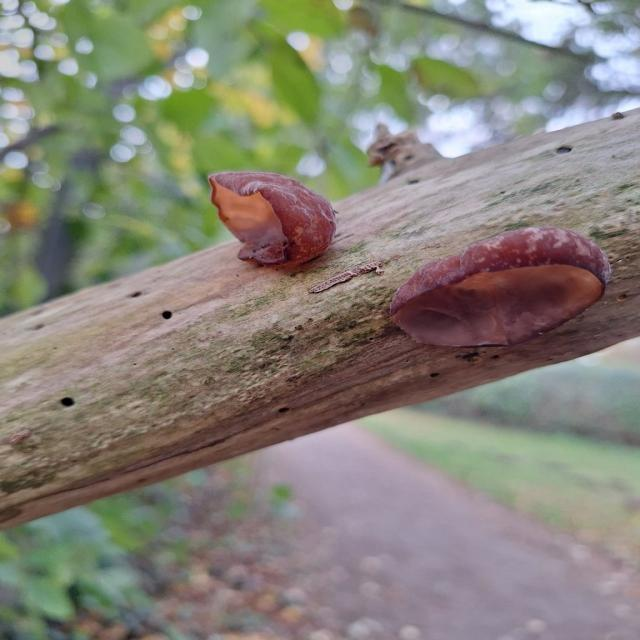Matang: (390, 230, 614, 356), (205, 167, 343, 271)
